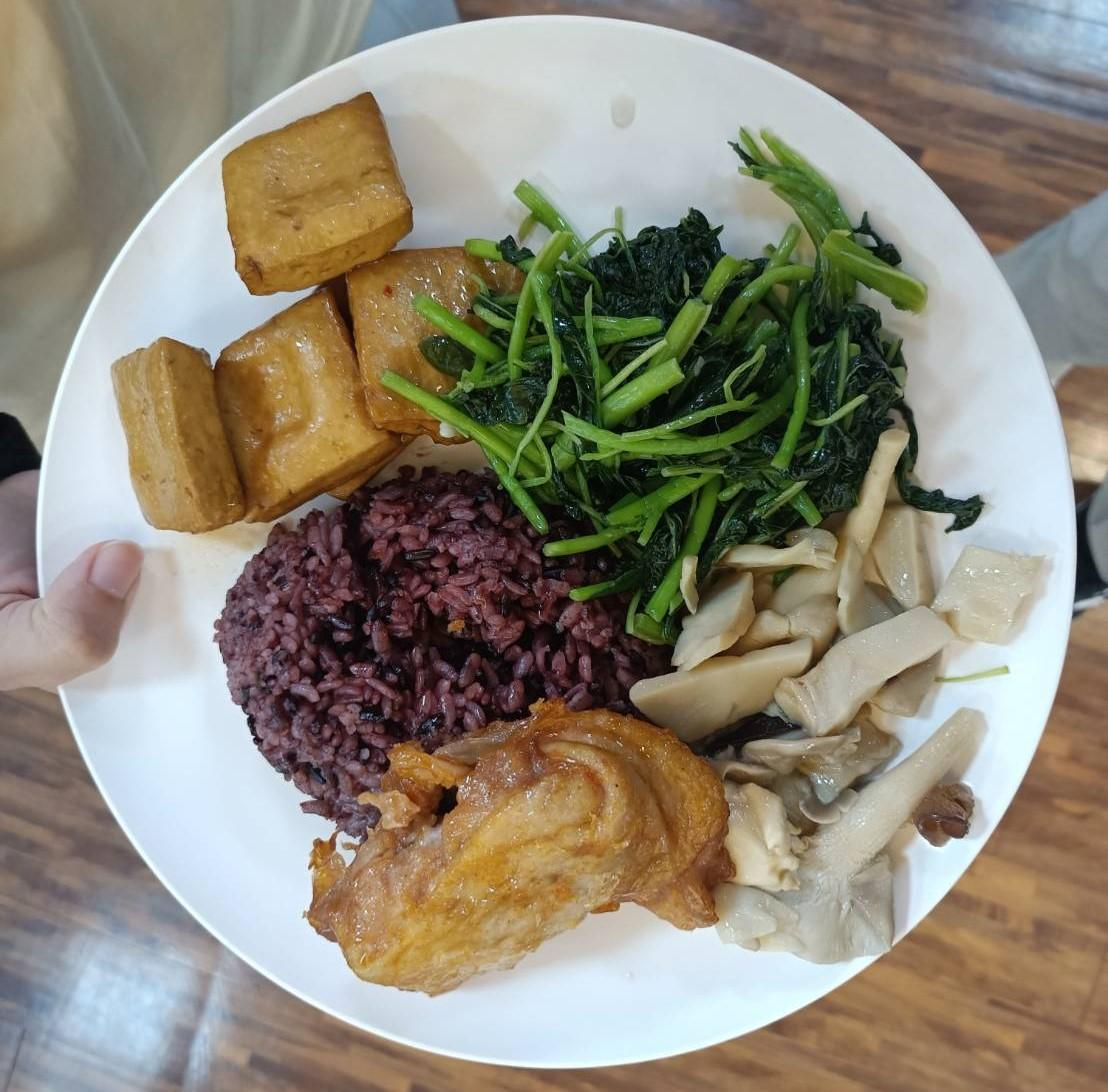big fried chicken leg: (20, 33, 1080, 1064)
braised fish: (221, 503, 636, 768)
braised fish fillet: (112, 83, 516, 533), (486, 203, 910, 580), (664, 520, 998, 954)
braised pork: (333, 712, 718, 1006)
